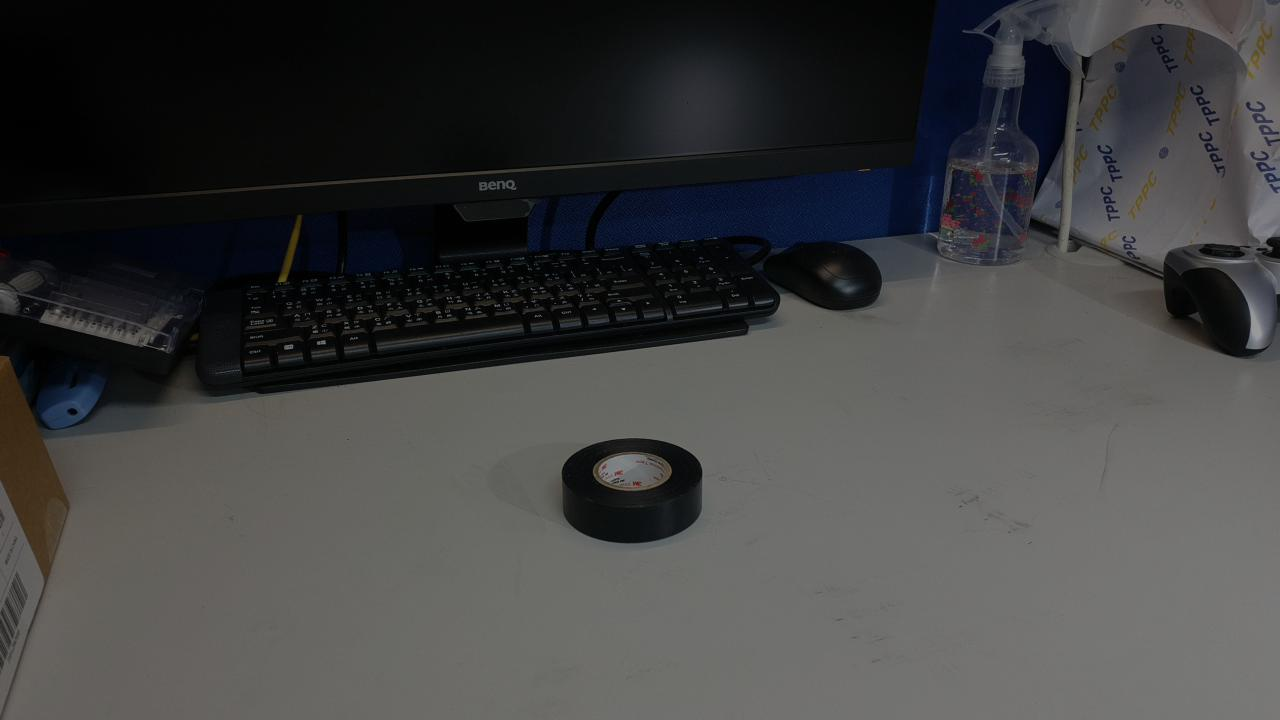columnar: (617, 208, 770, 404)
grip: (576, 255, 648, 378)
